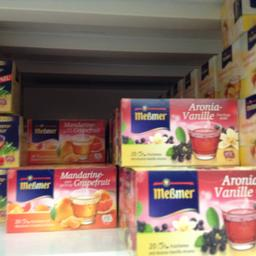tea: (122, 164, 255, 252), (118, 96, 238, 163), (6, 164, 118, 228), (23, 116, 106, 164)
